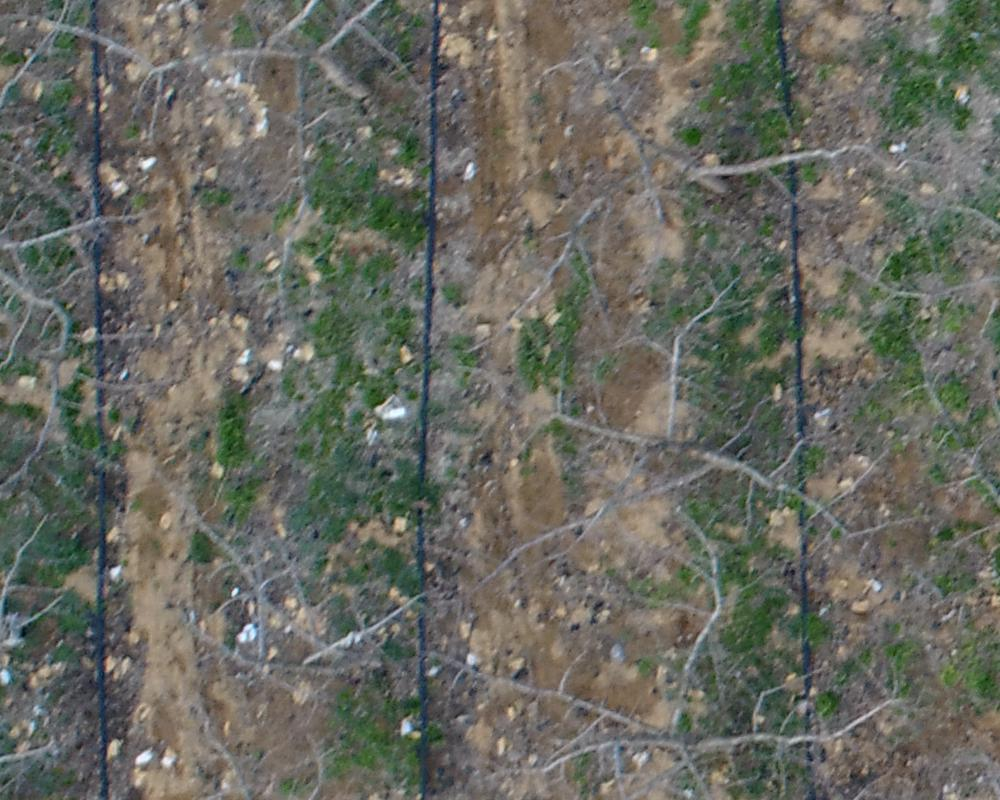apple: (476, 287, 917, 590), (431, 526, 894, 790), (508, 46, 882, 314), (144, 471, 443, 741), (10, 10, 475, 165)
